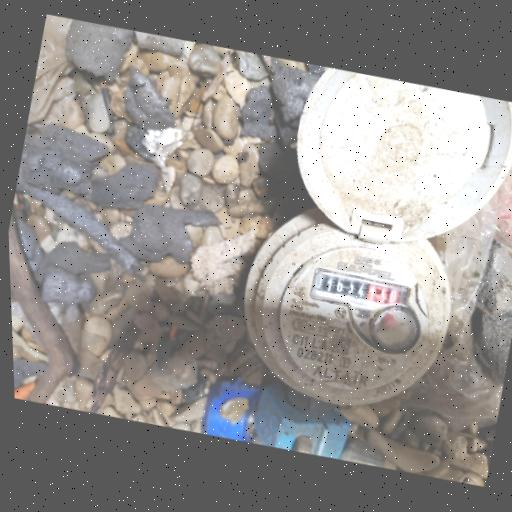0: (384, 286, 402, 307), (311, 270, 327, 291)
1: (364, 282, 380, 304), (321, 272, 337, 293)
4: (354, 280, 369, 300)
5: (342, 277, 359, 299), (374, 284, 390, 306)
6: (331, 276, 347, 296)
border_water_meter_number: (309, 267, 415, 319)
